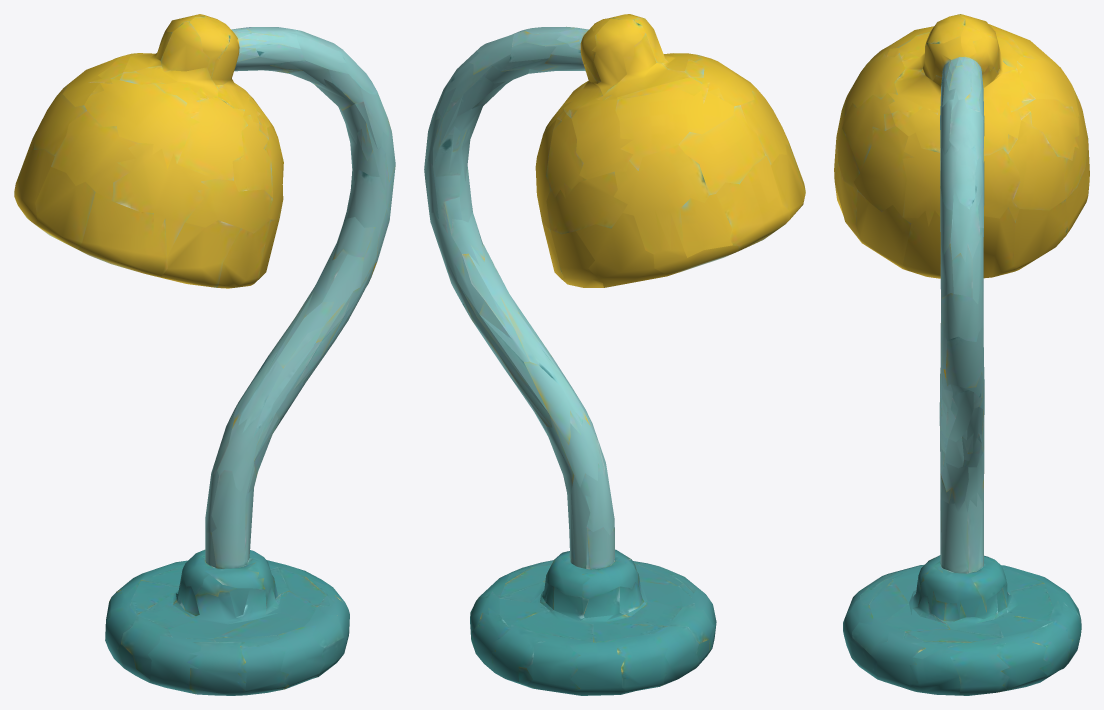
Rendered from lamp.glb.
3 renders of one model, left to right at view 1: azimuth 30°, elevation 25°; view 2: azimuth 150°, elevation 25°; view 3: azimuth 270°, elevation 25°, orthographic. The views are drawn at different scales.
Parts seen in each view (by area): view 1: lamp; view 2: lamp; view 3: lamp.
Boxes of the visible parts, bbox=[...] form: lamp: bbox=[14, 14, 395, 695]; lamp: bbox=[424, 14, 805, 695]; lamp: bbox=[834, 14, 1089, 695].
Bounding box in the file's own units: 0.9373 × 1.6 × 0.5983.
Materials: 1 (1 with a texture image).
